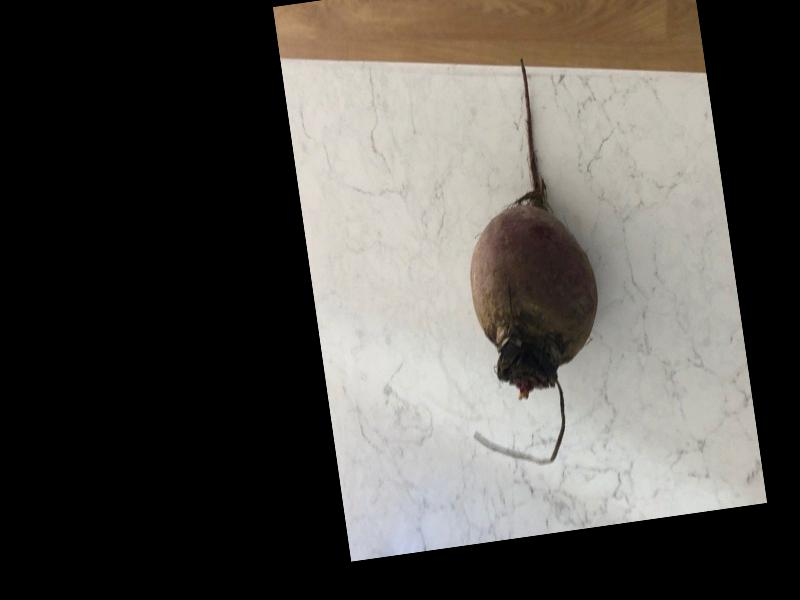Beet: (423, 51, 619, 471)
